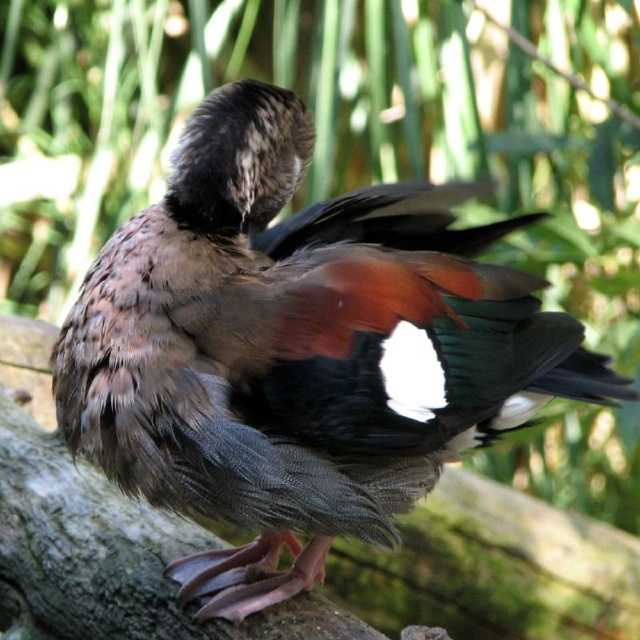Duck: (26, 63, 624, 626)
